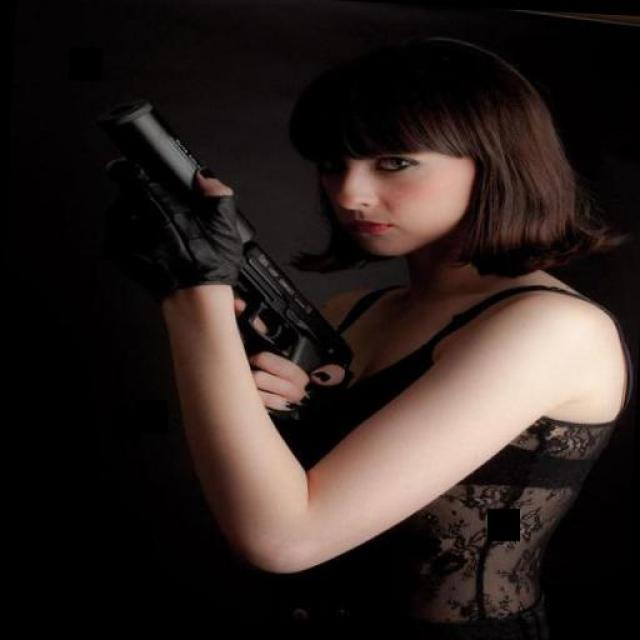gun: (68, 94, 364, 416)
